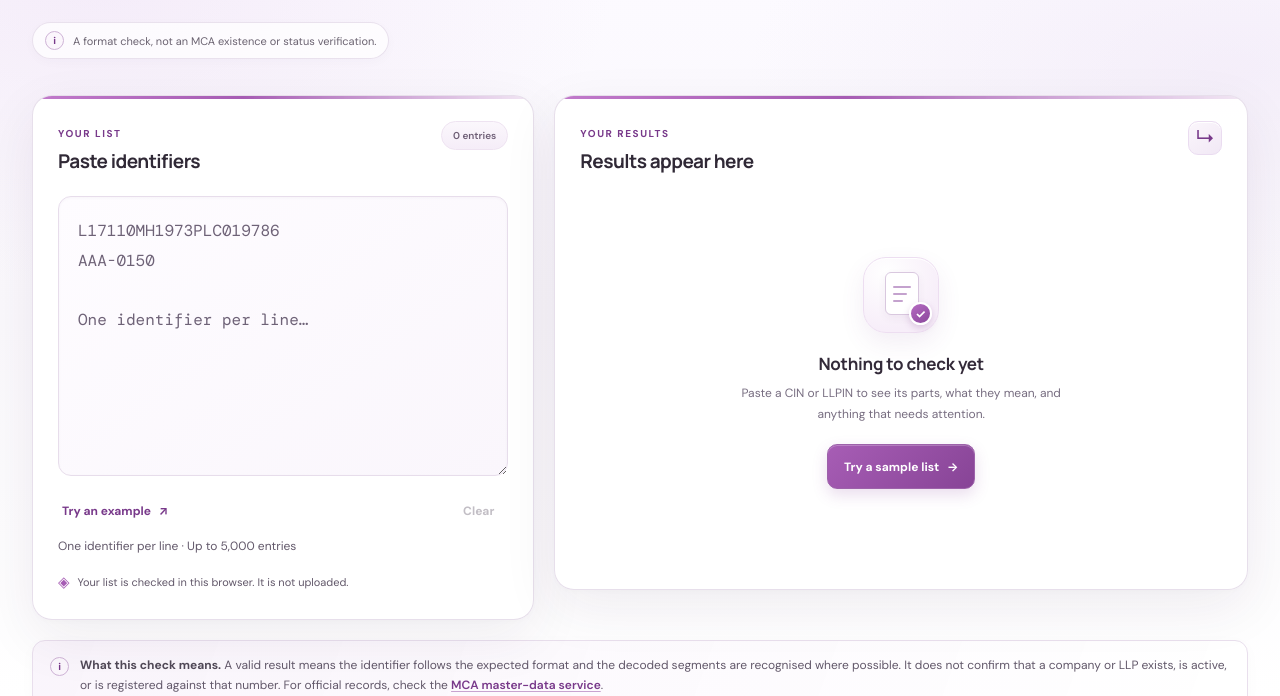
FileSure checker interface › shows NPL historical context as information, not as a review warning
The image size is (1280, 696).
(page scrolled)
Type "L17110MH1973NPL019786" into the text box named "Paste one CIN or LLPIN per line" at (283, 336), box [58, 196, 508, 476]
(page scrolled)
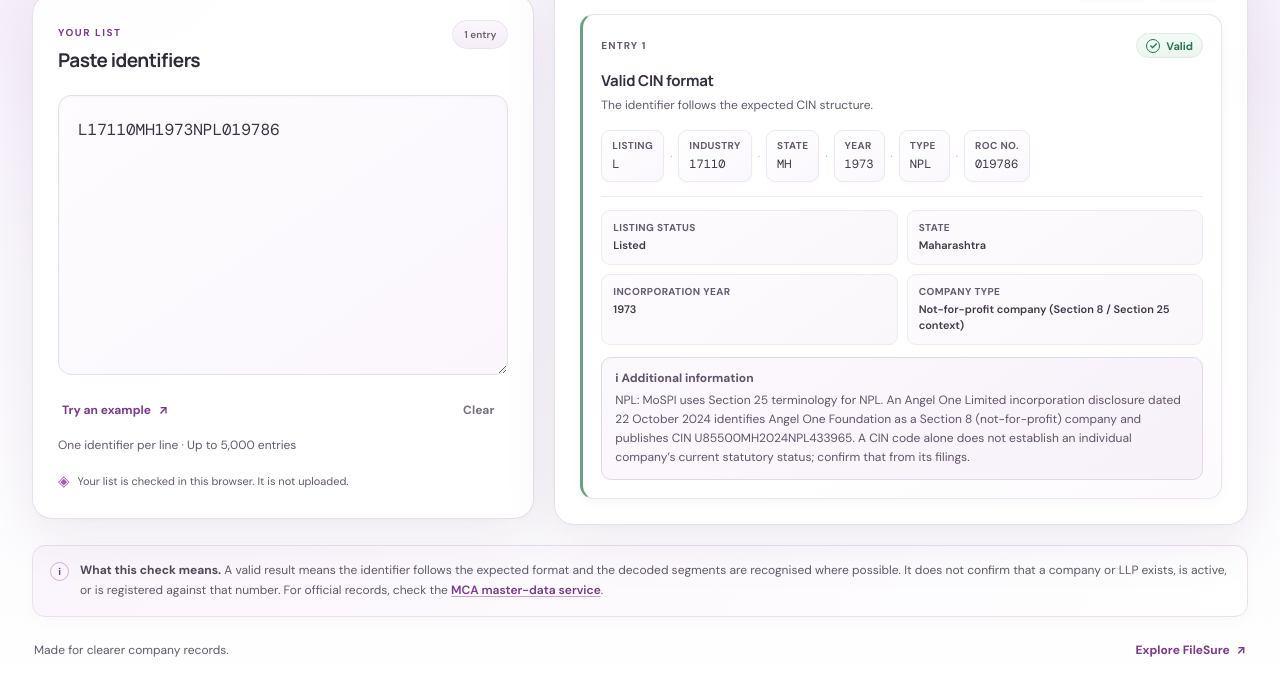
Expected: the heading "Valid CIN format" is shown, [601, 70, 714, 91]
Expected: the text "Additional information" is shown, [621, 370, 754, 386]
Expected: the text "does not establish an individual company" is shown, [615, 392, 1181, 465]
